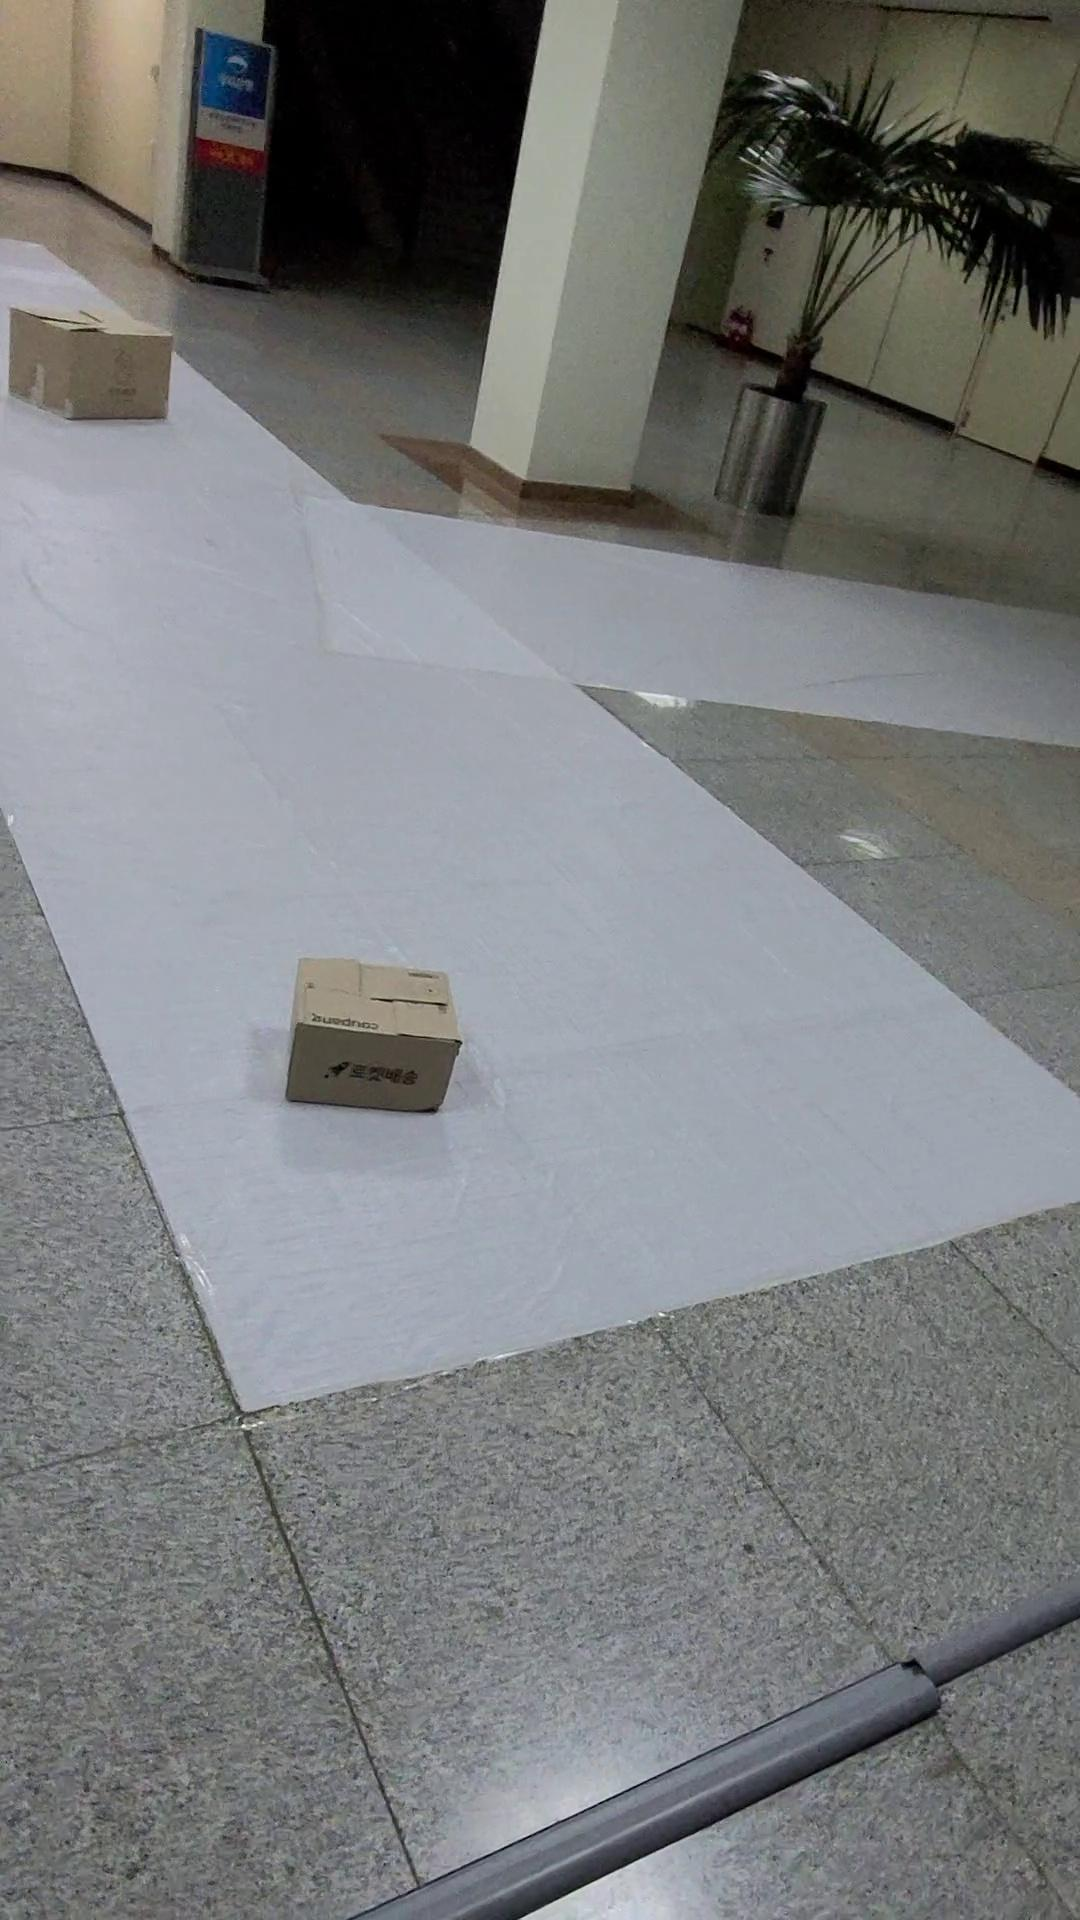Box: (251, 910, 502, 1145), (0, 270, 225, 454)
